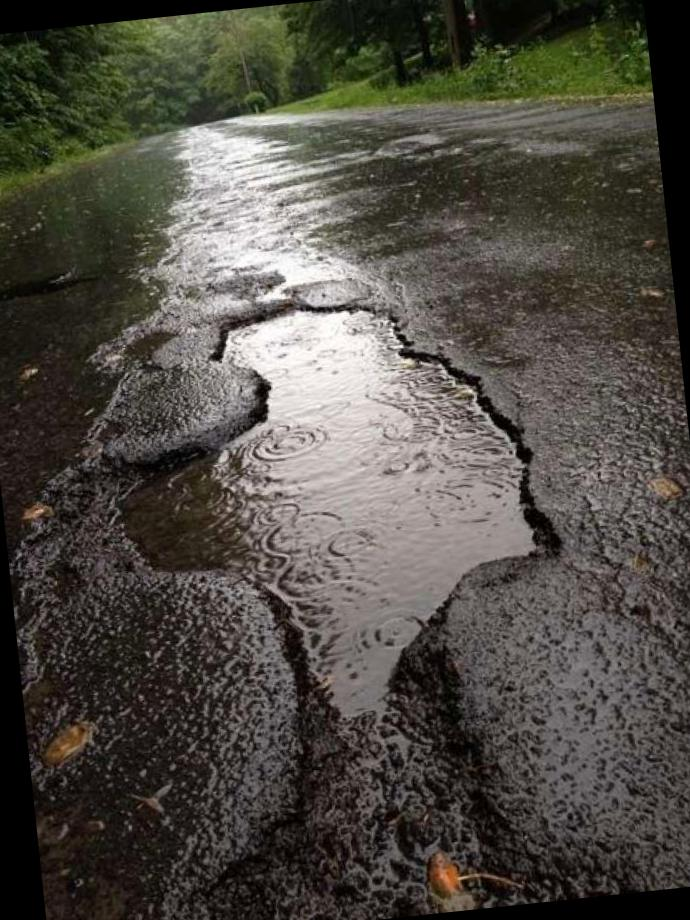pothole: (85, 262, 576, 752), (364, 118, 458, 170)
